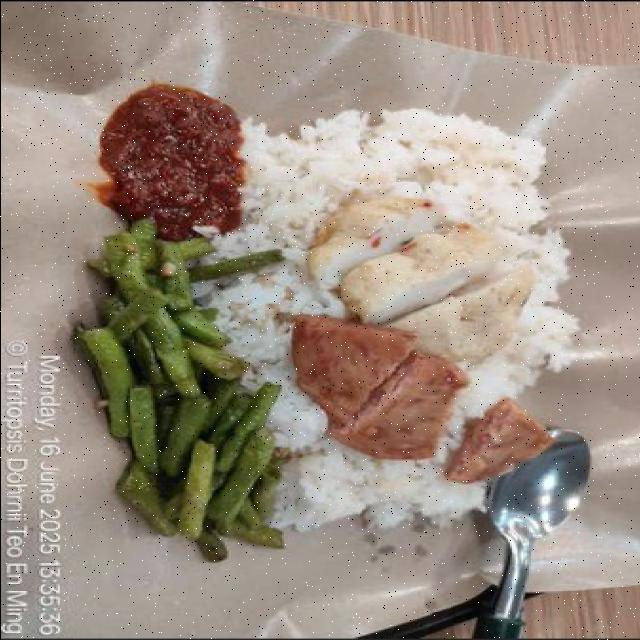Fish: (311, 196, 536, 363)
Green veg: (76, 218, 283, 560)
Pork: (292, 316, 467, 459), (444, 398, 553, 483)
Rice: (196, 109, 579, 448), (273, 445, 480, 528)
